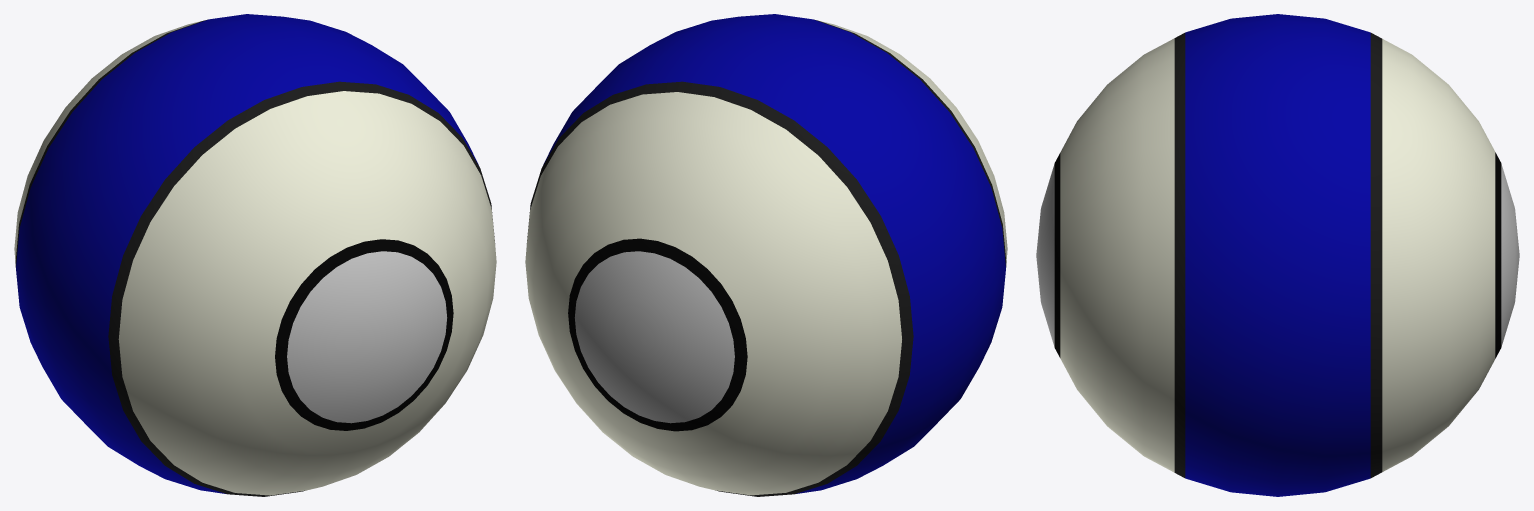
File: 台球厅.gltf
The picture shows the model from 3 angles, left to right: view 1: azimuth 30°, elevation 25°; view 2: azimuth 150°, elevation 25°; view 3: azimuth 270°, elevation 25°; orthographic projection.
Visible parts, largest first — view 1: node_Ball_-60724; view 2: node_Ball_-60724; view 3: node_Ball_-60724.
Boxes of the visible parts, x1=… form: node_Ball_-60724: x1=14, y1=14, x2=496, y2=496; node_Ball_-60724: x1=525, y1=14, x2=1007, y2=496; node_Ball_-60724: x1=1036, y1=14, x2=1519, y2=496.
Size of the model in its own units: 0.8174 by 0.8174 by 0.8174.
